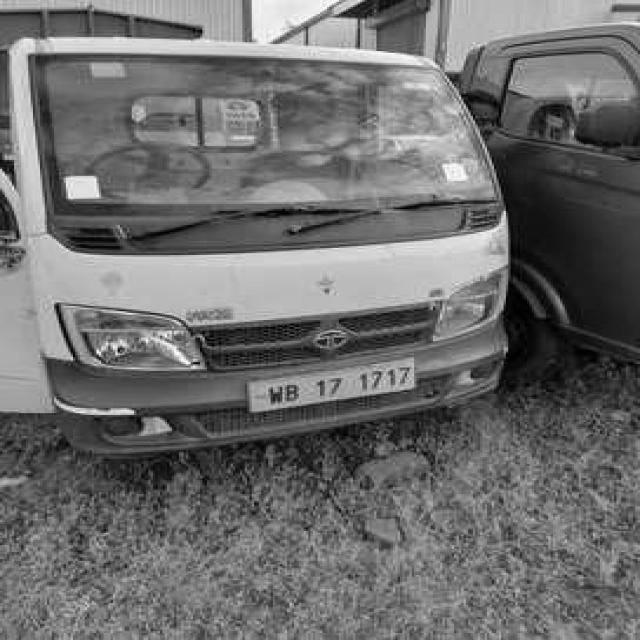license-plate: (245, 355, 426, 422)
